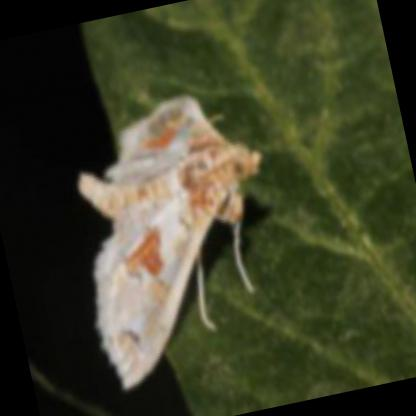leucinodes: (78, 97, 257, 389)
